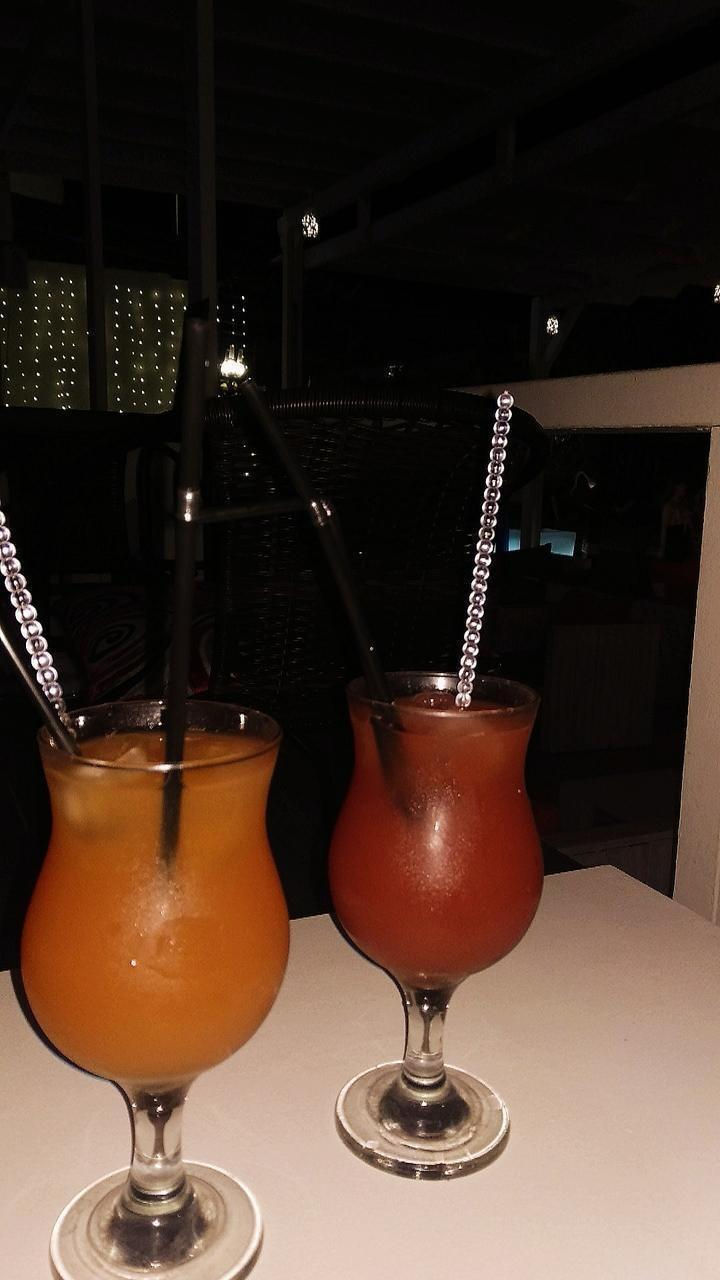glass-wine: (15, 694, 295, 1279), (323, 670, 547, 1176)
